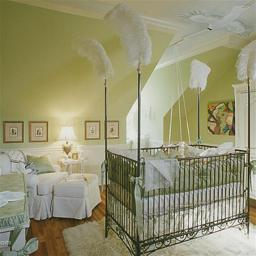Cama: (105, 141, 249, 237)
